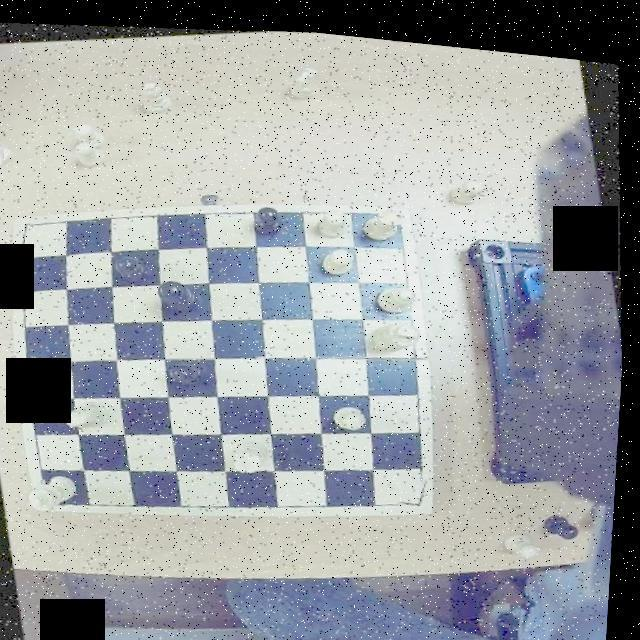chess-table-corners: (398, 464, 438, 504), (379, 195, 414, 232), (39, 474, 74, 510), (17, 217, 48, 246)
